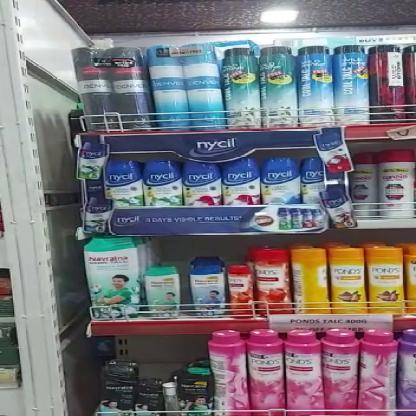Nycil Prickly Heat Powder: (183, 161, 221, 210), (143, 163, 183, 209), (104, 164, 143, 210), (258, 160, 296, 206), (221, 161, 258, 208), (300, 158, 326, 206)
